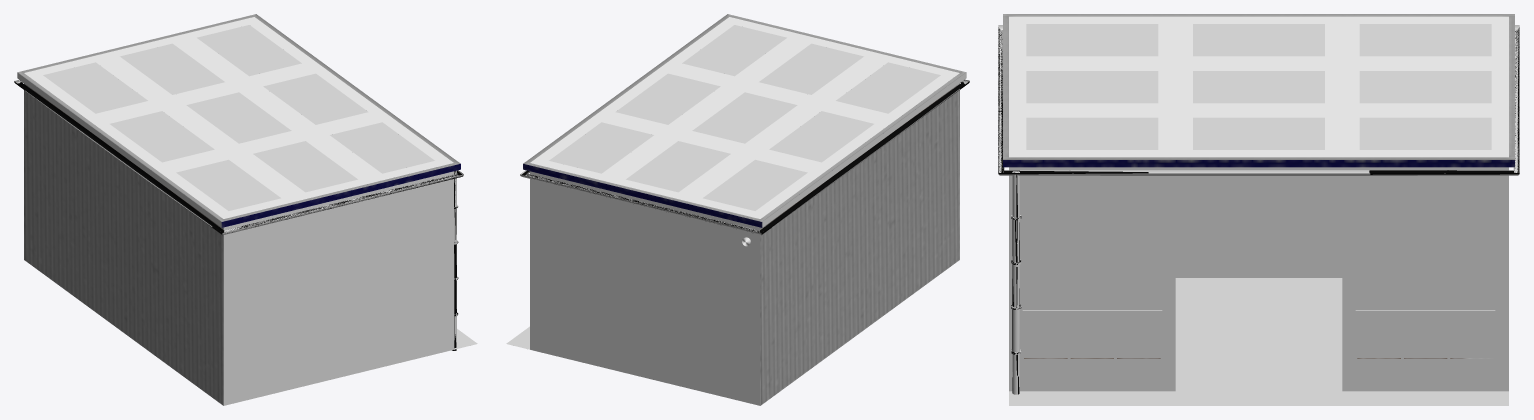
File: industrial_unit_med.glb
3 renders of one model, left to right at view 1: azimuth 30°, elevation 25°; view 2: azimuth 150°, elevation 25°; view 3: azimuth 270°, elevation 25°, orthographic. The views are drawn at different scales.
Parts seen in each view (by area): view 1: Unit 3, Unit 3_Baked, Unit 3 roof.001, Unit 3 roof; view 2: Unit 3, Unit 3_Baked, Unit 3 roof.001, Unit 3 roof; view 3: Unit 3, Unit 3 roof.001, Unit 3 roof, Unit 3_Baked.
Boxes of the visible parts, bbox=[...] form: Unit 3: bbox=[14, 72, 477, 405]; Unit 3_Baked: bbox=[14, 14, 462, 405]; Unit 3 roof.001: bbox=[43, 25, 434, 210]; Unit 3 roof: bbox=[24, 17, 453, 218]; Unit 3: bbox=[506, 72, 969, 405]; Unit 3_Baked: bbox=[521, 14, 969, 405]; Unit 3 roof.001: bbox=[549, 25, 940, 210]; Unit 3 roof: bbox=[530, 17, 959, 218]; Unit 3: bbox=[998, 25, 1519, 405]; Unit 3 roof.001: bbox=[1026, 24, 1491, 149]; Unit 3 roof: bbox=[1009, 16, 1508, 157]; Unit 3_Baked: bbox=[998, 14, 1519, 394].
Bounding box in the file's own units: 28.03 × 19.46 × 38.74.
Materials: 12 (1 with a texture image).
